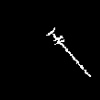treble_crochet: (48, 28, 90, 76)
